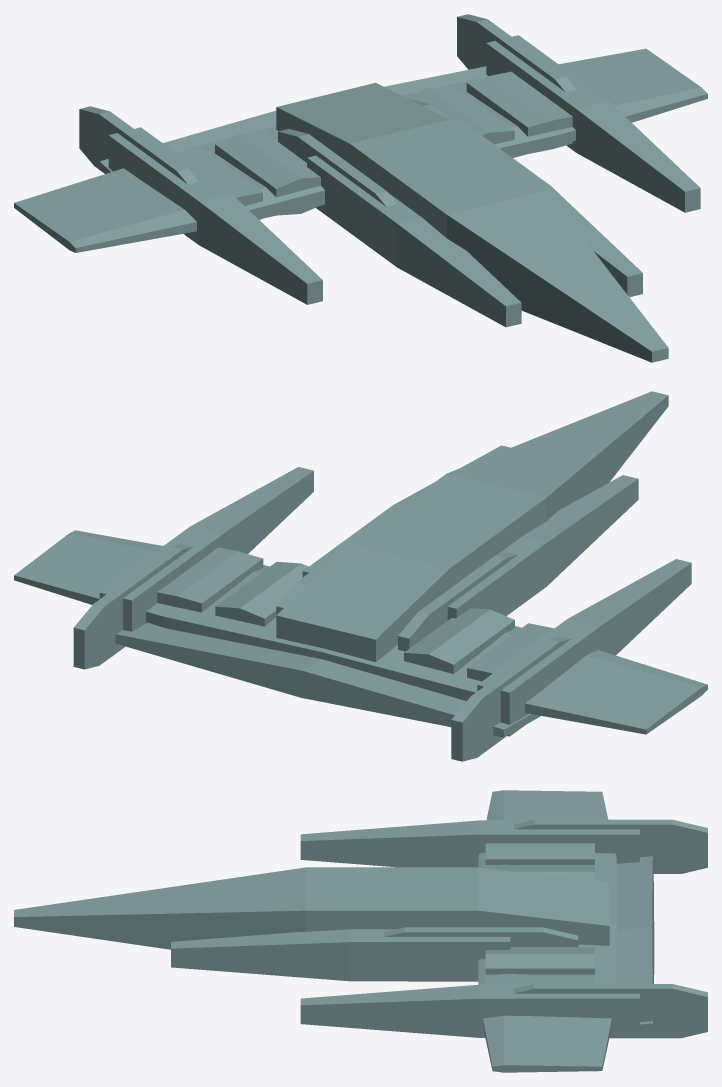
File: Ship.fbx
The picture shows the model from 3 angles, top to bottom: view 1: azimuth 30°, elevation 25°; view 2: azimuth 150°, elevation 25°; view 3: azimuth 270°, elevation 25°; orthographic projection. The views are drawn at different scales.
Parts seen in each view (by area): view 1: Cube.014; view 2: Cube.014; view 3: Cube.014.
Part boxes in pixels (<box>): Cube.014: <box>14,14,707,362</box>; Cube.014: <box>14,391,707,761</box>; Cube.014: <box>14,790,707,1072</box>.
Bounding box in the file's own units: 2009 × 233 × 2143.
